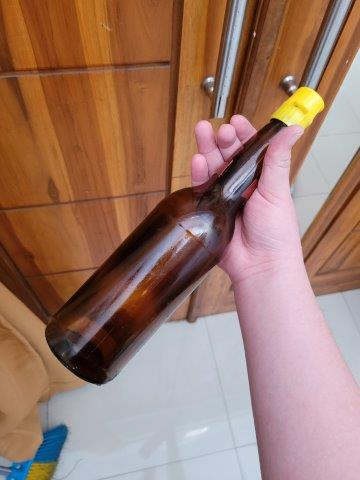botolkaca: (45, 84, 325, 386)
